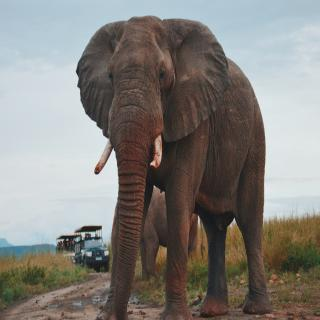Elephant: (73, 16, 274, 320)
